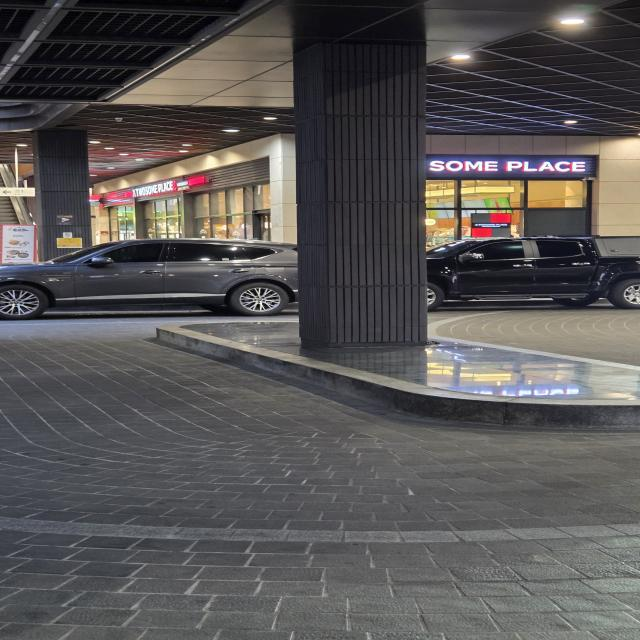car: (0, 220, 350, 332), (415, 229, 640, 326)
